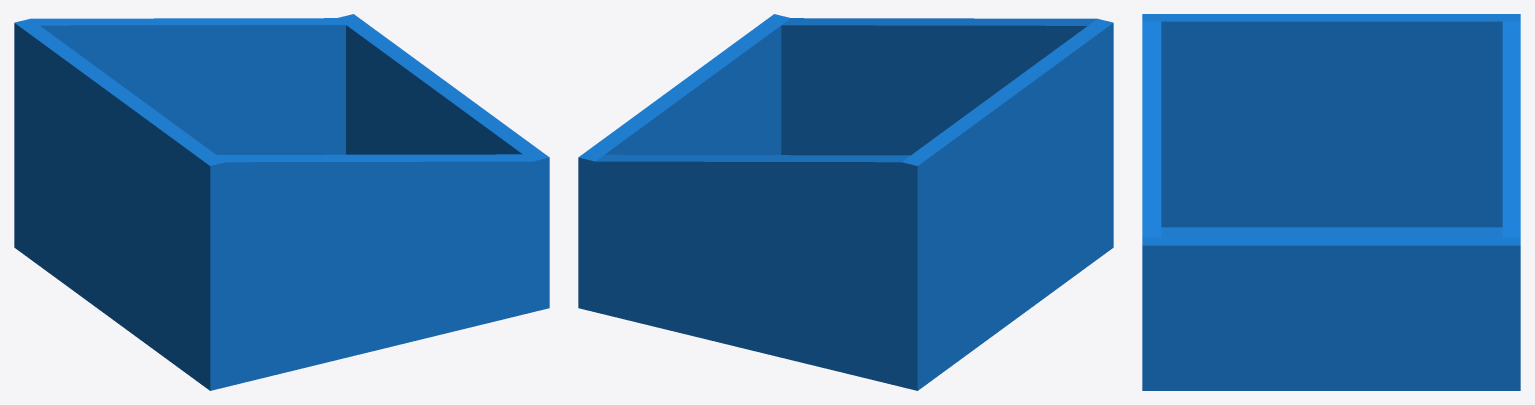
The model's file is blue_target.dae.
The picture shows the model from 3 angles, left to right: view 1: azimuth 30°, elevation 25°; view 2: azimuth 150°, elevation 25°; view 3: azimuth 270°, elevation 25°; orthographic projection. The views are drawn at different scales.
Parts seen in each view (by area): view 1: Cube; view 2: Cube; view 3: Cube.
Part boxes in pixels (<box>): Cube: <box>14,14,549,390</box>; Cube: <box>578,14,1113,390</box>; Cube: <box>1142,14,1520,390</box>.
Size of the model in its own units: 0.6 by 0.6 by 0.3797.
